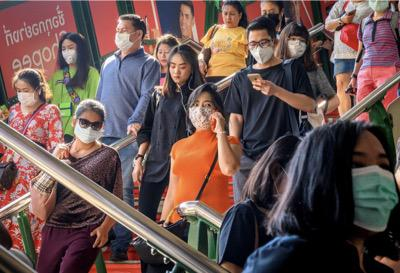with_mask: (350, 149, 398, 233), (187, 99, 216, 131), (73, 117, 102, 145), (248, 37, 274, 67), (113, 25, 135, 52), (14, 86, 37, 108), (286, 36, 307, 59), (259, 7, 280, 28), (59, 43, 77, 66), (367, 1, 389, 13)
without_mask: (167, 61, 190, 84), (221, 9, 239, 28), (156, 48, 170, 67)
